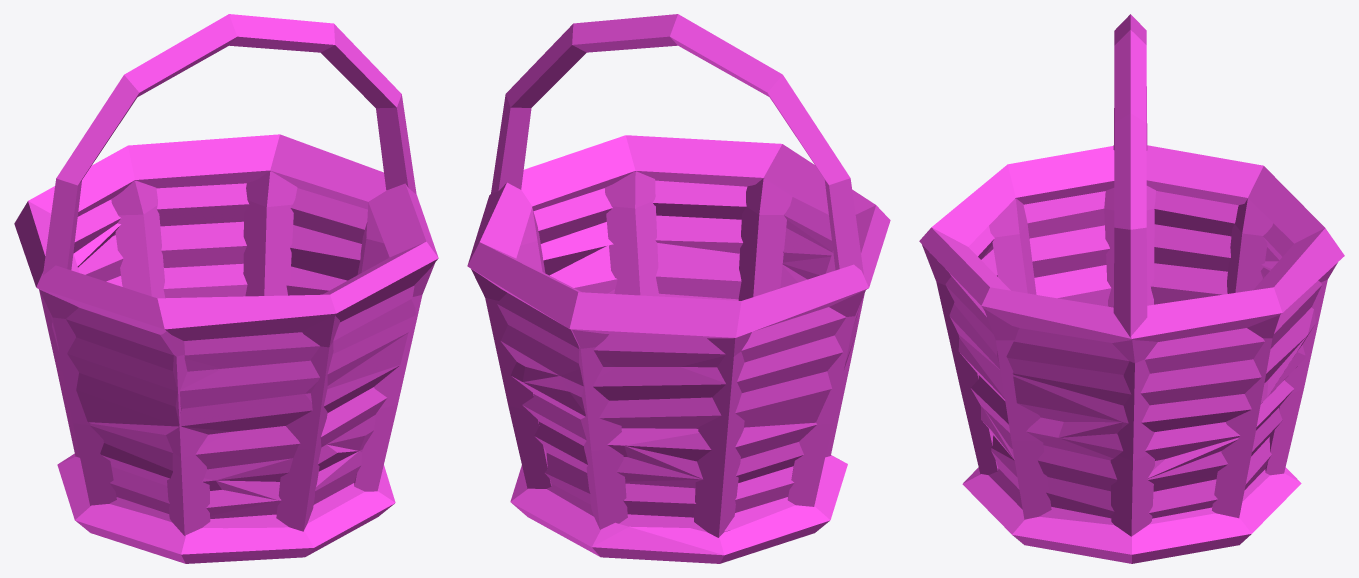
File: SM_Basket_Small_Fantasy.fbx
3 views of the same model, side by side, from view 1: azimuth 30°, elevation 25°; view 2: azimuth 150°, elevation 25°; view 3: azimuth 270°, elevation 25° (orthographic). The views are drawn at different scales.
Visible parts, largest first — view 1: SM_Basket_Small_Fantasy; view 2: SM_Basket_Small_Fantasy; view 3: SM_Basket_Small_Fantasy.
Part boxes in pixels (x1,y1,x2,y2): SM_Basket_Small_Fantasy: (14,14,438,563); SM_Basket_Small_Fantasy: (467,14,890,563); SM_Basket_Small_Fantasy: (919,14,1344,563).
Bounding box in the file's own units: 0.416 × 0.5076 × 0.416.
